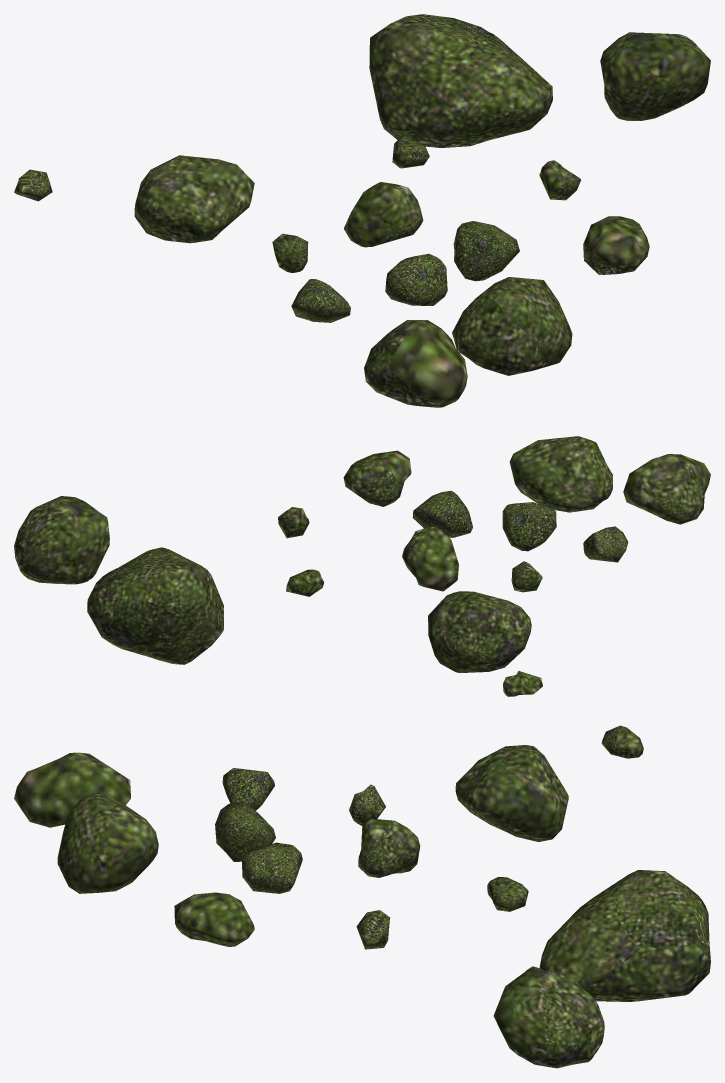
Rendered from SM_Rock_group_small_01.fbx.
The picture shows the model from 3 angles, top to bottom: view 1: azimuth 30°, elevation 25°; view 2: azimuth 150°, elevation 25°; view 3: azimuth 270°, elevation 25°; orthographic projection. The views are drawn at different scales.
Parts seen in each view (by area): view 1: SM_Rock_group_small_01_LOD0; view 2: SM_Rock_group_small_01_LOD0; view 3: SM_Rock_group_small_01_LOD0.
Part boxes in pixels (<box>): SM_Rock_group_small_01_LOD0: <box>14,14,710,407</box>; SM_Rock_group_small_01_LOD0: <box>14,436,710,696</box>; SM_Rock_group_small_01_LOD0: <box>14,725,710,1068</box>.
Size of the model in its own units: 124 by 118 by 21.53.
1 material, 1 textured.
